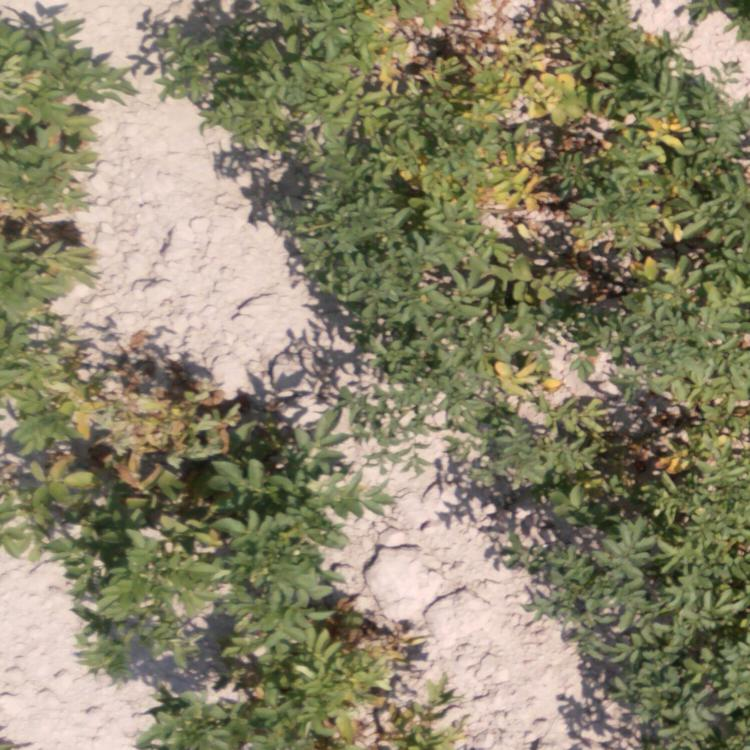healthy: (529, 505, 750, 747), (305, 225, 475, 390), (139, 1, 282, 110), (220, 116, 353, 212), (389, 400, 471, 480), (690, 1, 748, 41)
stressed: (213, 398, 390, 678), (473, 223, 750, 394), (298, 1, 678, 111), (358, 115, 749, 215), (98, 335, 198, 649), (1, 229, 93, 540), (482, 399, 748, 499), (1, 6, 115, 223), (147, 687, 468, 750)
